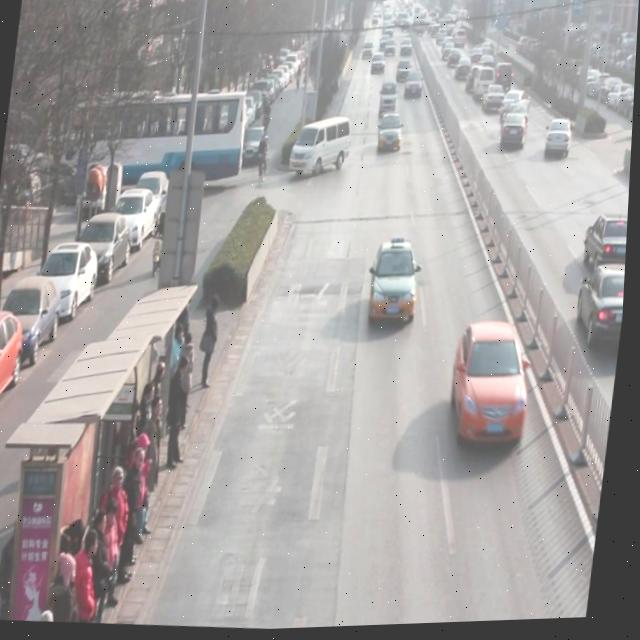car: (450, 321, 542, 457), (371, 240, 428, 328), (577, 263, 629, 351), (584, 213, 631, 284), (378, 111, 408, 156), (547, 120, 577, 163), (502, 105, 534, 143), (502, 91, 535, 127), (503, 113, 531, 153), (493, 62, 518, 98), (483, 84, 509, 117), (466, 65, 488, 98), (405, 71, 428, 102), (478, 56, 499, 82), (456, 58, 476, 84), (397, 60, 416, 87)
truck: (291, 116, 356, 182), (474, 67, 499, 106), (381, 77, 402, 122)
